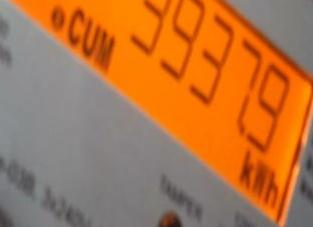.: (236, 148, 289, 210)
0: (240, 122, 246, 136)
4: (188, 13, 236, 106)
8: (232, 38, 263, 129)
:: (157, 0, 207, 83), (249, 64, 291, 154)
